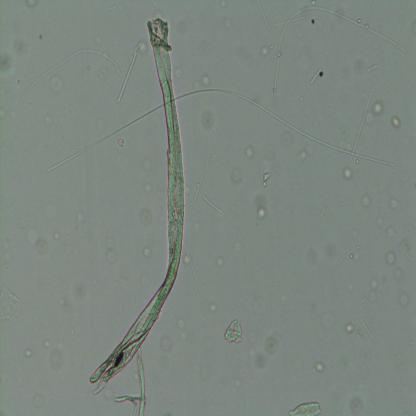Background material: (0, 284, 25, 320), (362, 278, 387, 308), (223, 316, 247, 344), (286, 399, 324, 416), (248, 189, 268, 220), (30, 387, 48, 410), (47, 74, 66, 95), (170, 316, 189, 337), (261, 335, 282, 354), (369, 100, 386, 123), (105, 237, 119, 264), (400, 236, 412, 264), (201, 110, 217, 131), (0, 51, 14, 75), (192, 72, 210, 90), (338, 161, 354, 181), (73, 282, 90, 300), (32, 236, 48, 255), (239, 145, 255, 163), (227, 166, 243, 184), (252, 351, 271, 366), (49, 350, 63, 370), (259, 40, 273, 58), (204, 295, 218, 313), (157, 334, 172, 350), (387, 197, 402, 213), (392, 349, 405, 367), (395, 290, 408, 307), (385, 247, 398, 264), (140, 208, 152, 226), (392, 112, 404, 130), (219, 15, 234, 29), (15, 40, 29, 54), (102, 386, 116, 400), (135, 40, 148, 55), (356, 400, 368, 416), (174, 64, 186, 80), (358, 191, 370, 207), (230, 239, 243, 253), (386, 224, 396, 241), (140, 245, 152, 259), (349, 249, 360, 264), (262, 172, 272, 188), (21, 345, 33, 358), (233, 374, 243, 389), (216, 252, 225, 268), (393, 270, 405, 282), (40, 337, 53, 348), (378, 214, 387, 229), (58, 294, 68, 307), (314, 359, 324, 372), (301, 148, 311, 160), (115, 136, 125, 148), (0, 106, 8, 121), (23, 0, 37, 8), (141, 160, 151, 171), (217, 0, 229, 9), (76, 208, 84, 221), (355, 329, 365, 339), (345, 325, 354, 336), (52, 231, 61, 240), (145, 181, 151, 192), (297, 94, 305, 102), (36, 32, 44, 40), (321, 205, 326, 216), (118, 4, 124, 13), (310, 17, 316, 25), (108, 5, 117, 10), (349, 283, 354, 292), (356, 17, 362, 24), (310, 0, 317, 6)
Cotton: (84, 15, 186, 414)
Glass filter fibre: (176, 86, 395, 171), (270, 0, 408, 93), (52, 101, 166, 172), (20, 48, 116, 101), (350, 91, 374, 162), (182, 237, 205, 300), (116, 52, 136, 102), (256, 0, 272, 31), (201, 195, 223, 215), (358, 318, 376, 342), (271, 16, 306, 27), (310, 67, 320, 85), (366, 63, 379, 73), (93, 279, 99, 289)
